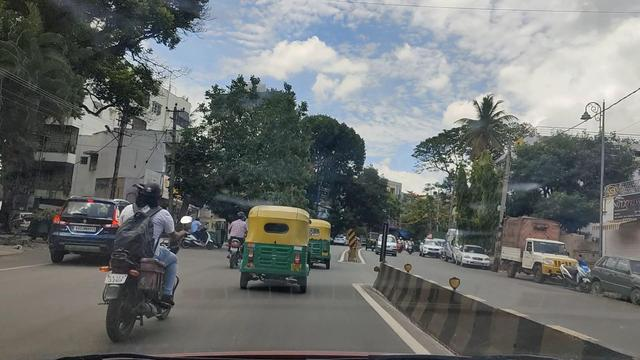LMV: (119, 186, 182, 339), (244, 207, 306, 301), (59, 193, 118, 266), (218, 209, 245, 273), (302, 223, 334, 266)
